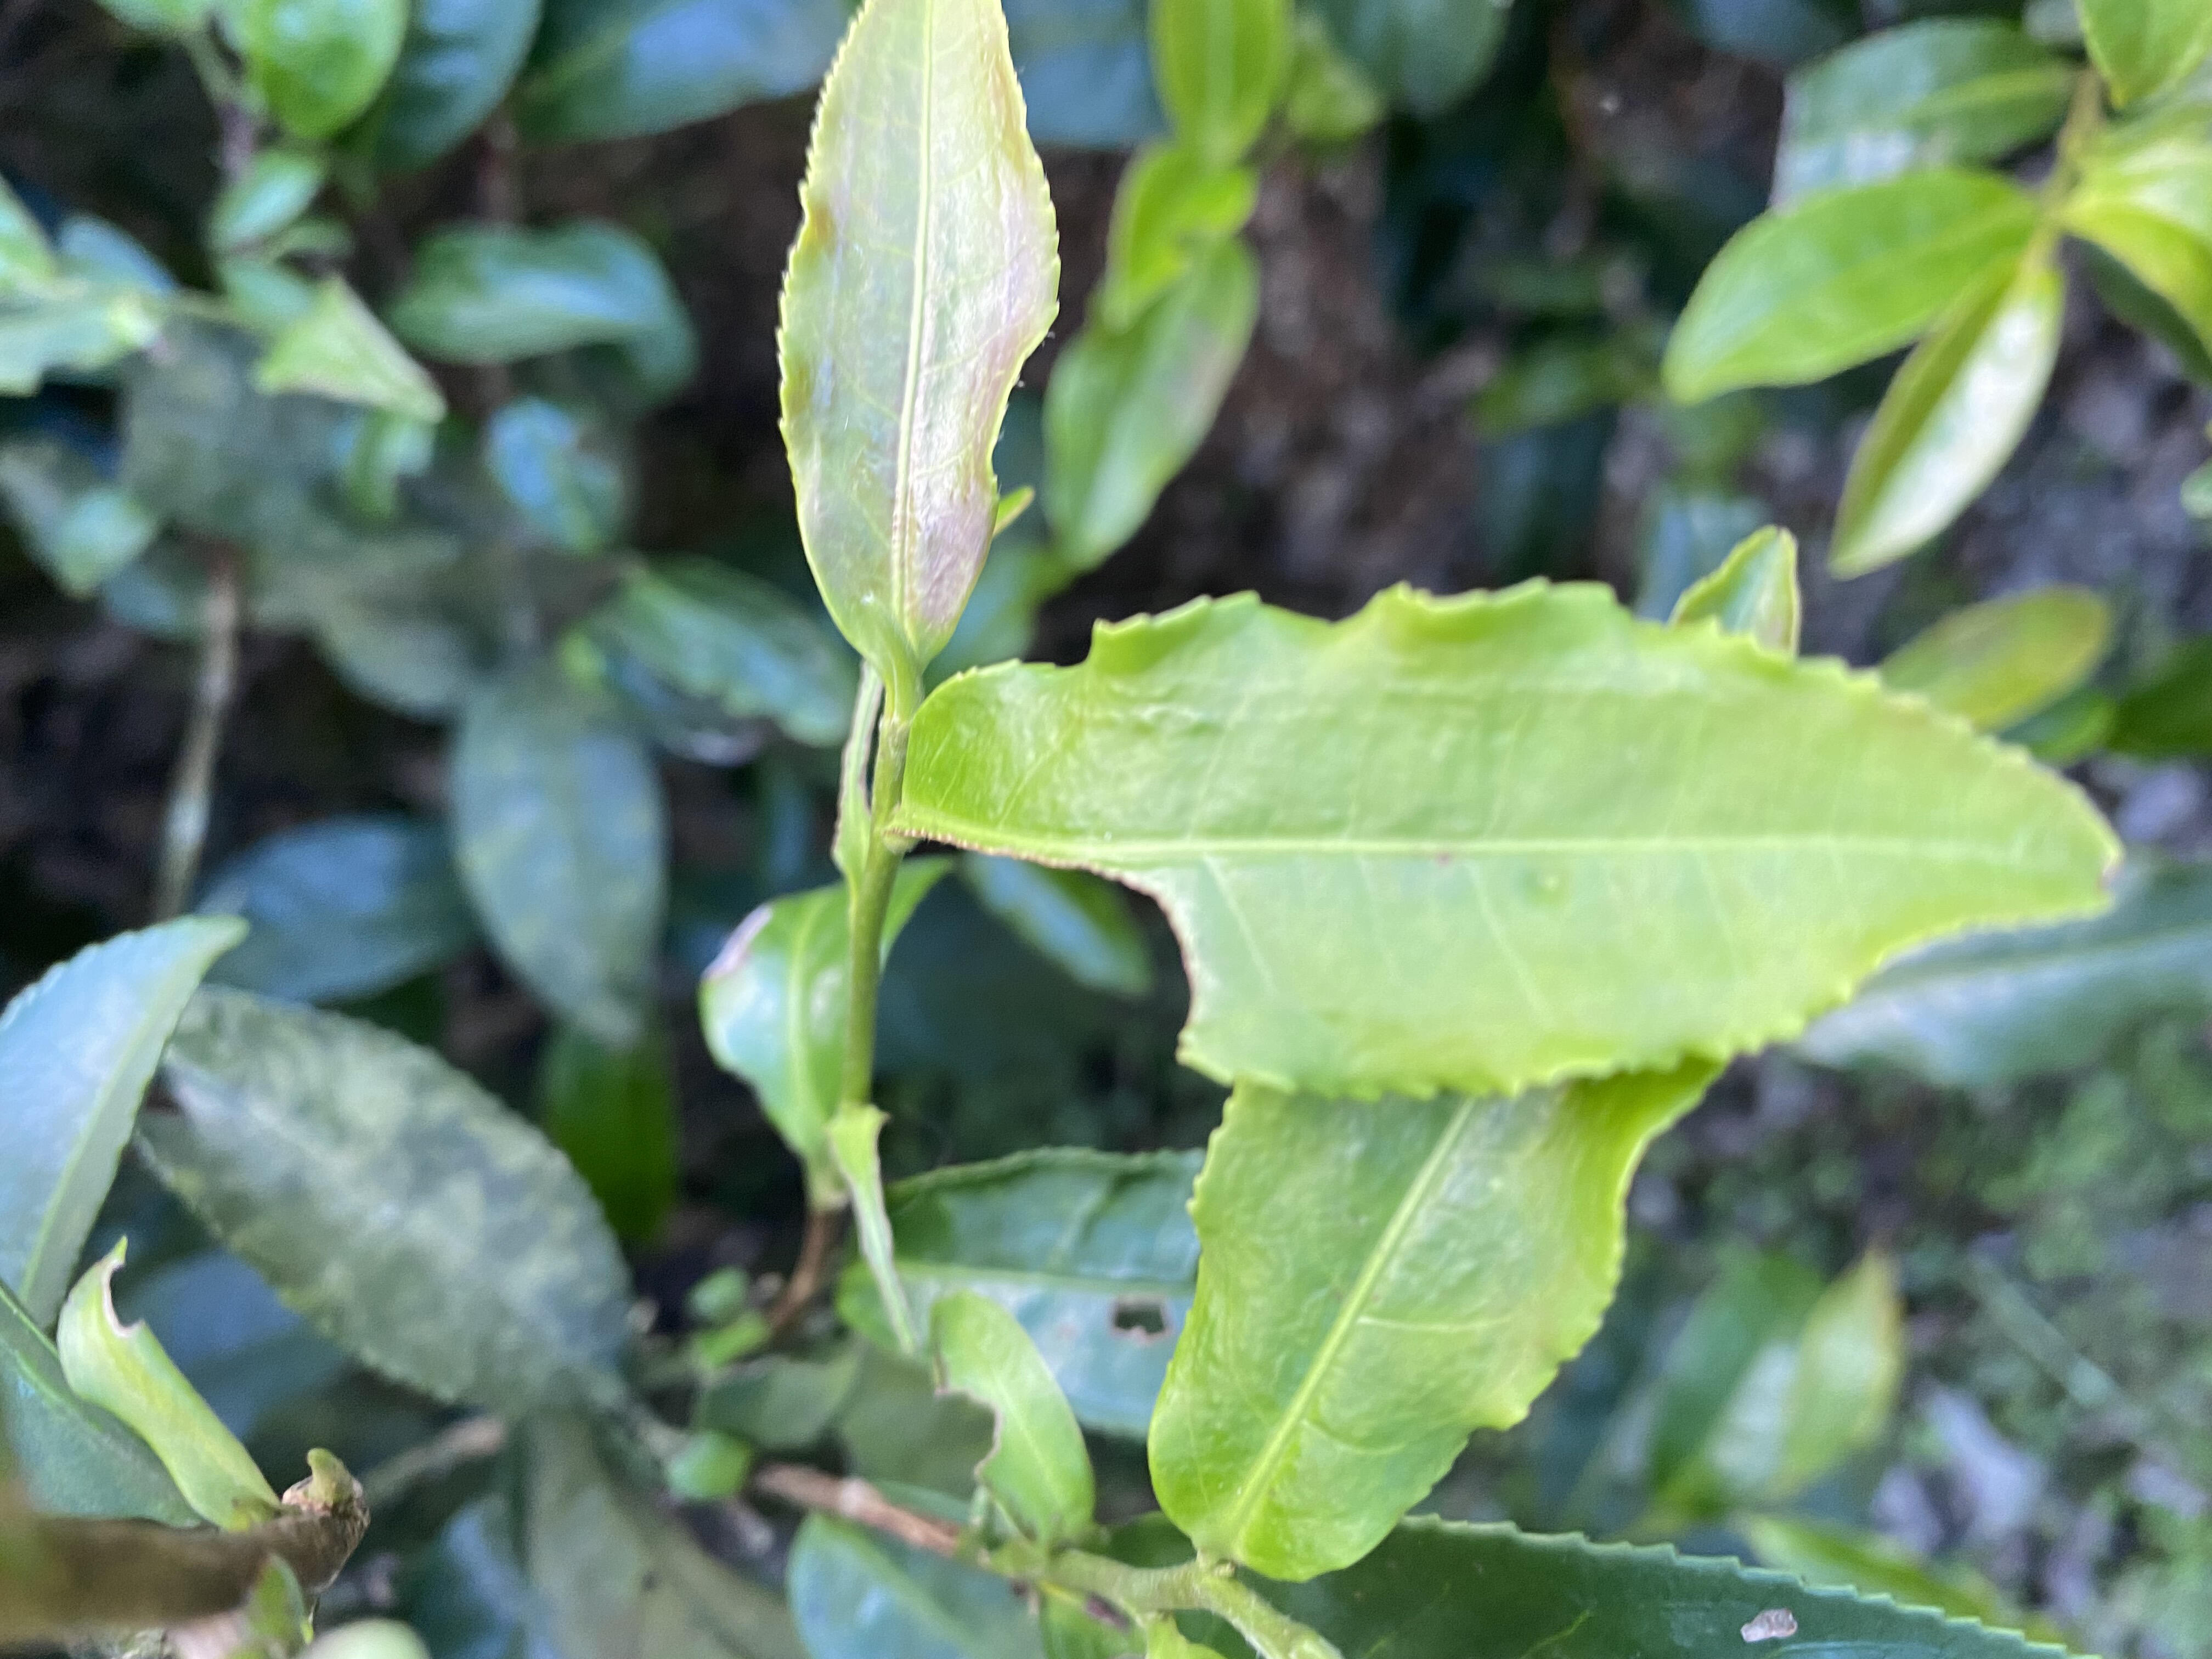chihuo_high: (902, 573, 2127, 1107)
chihuo_low: (51, 1229, 277, 1523)
tanju_low: (770, 2, 1064, 673)
